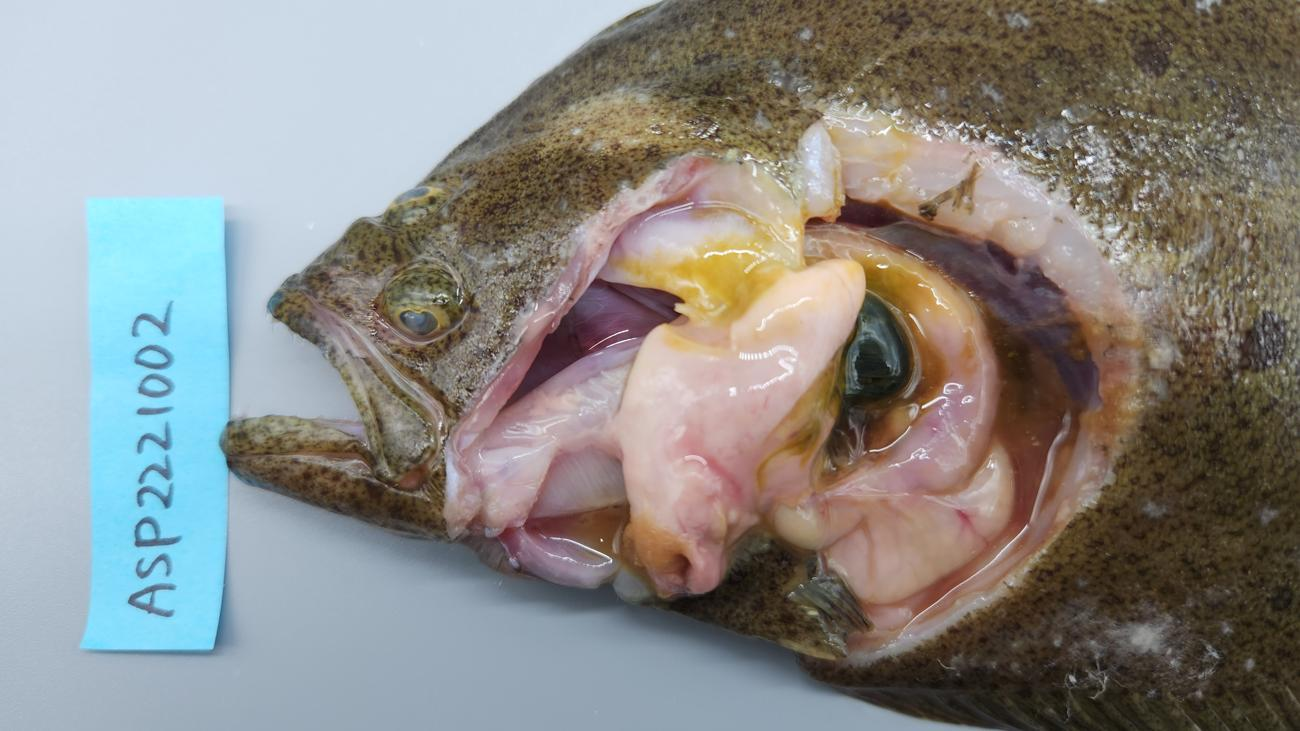SPSPE: (836, 291, 909, 409)
